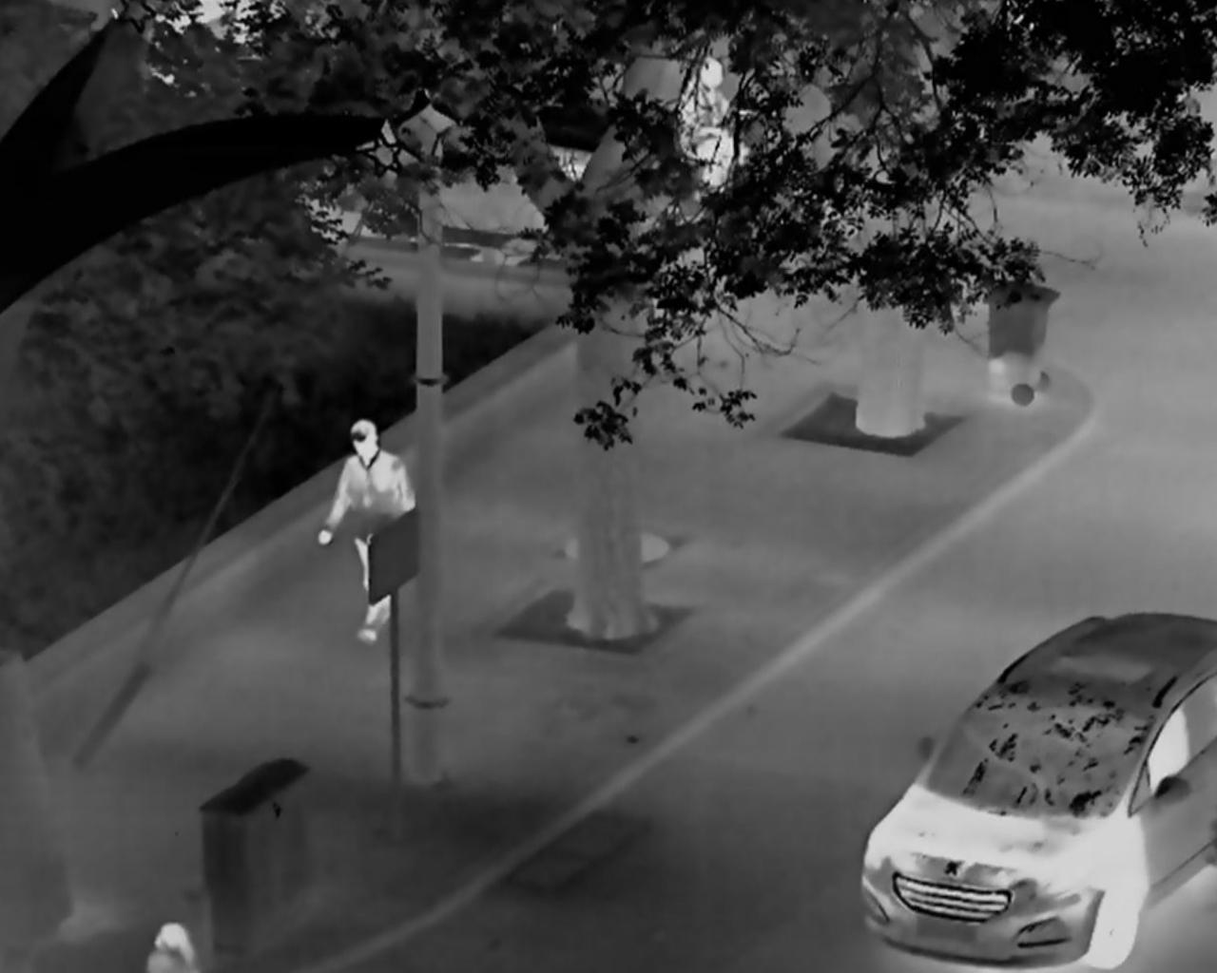person: (317, 418, 418, 641), (677, 54, 751, 188), (147, 922, 203, 973)
